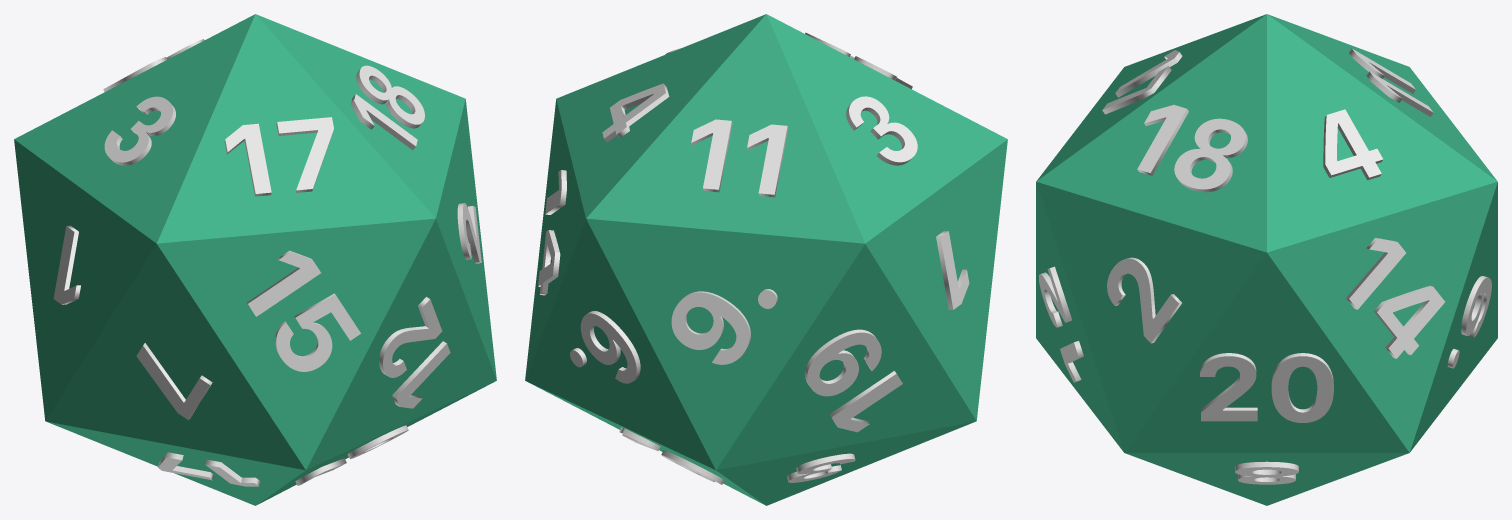
The picture shows the model from 3 angles, left to right: view 1: azimuth 30°, elevation 25°; view 2: azimuth 150°, elevation 25°; view 3: azimuth 270°, elevation 25°; orthographic projection.
Parts seen in each view (by area): view 1: Icosphere, Text.023, Text.033, Text.031, Text.013, Text.035, Text.015, Text.005, Text.025, Text.021, Text.001; view 2: Icosphere, Text.017, Text.027, Text.037, Text.019, Text.035, Text.039, Text.029, Text.025, Text.007, Text.009; view 3: Icosphere, Text.011, Text.031, Text.029, Text.021, Text.039, Text.013, Text.037, Text.033, Text.019, Text.003.
Boxes of the visible parts, box(x1,y1,x2,y2) form: Icosphere: box(14, 14, 496, 505); Text.023: box(247, 250, 360, 371); Text.033: box(224, 117, 333, 196); Text.031: box(351, 65, 424, 150); Text.013: box(379, 297, 450, 408); Text.035: box(104, 96, 175, 165); Text.015: box(136, 343, 212, 419); Text.005: box(158, 452, 260, 486); Text.025: box(53, 225, 80, 304); Text.021: box(457, 203, 481, 263); Text.001: box(295, 425, 408, 485); Icosphere: box(525, 14, 1007, 505); Text.017: box(805, 329, 902, 432); Text.027: box(671, 289, 777, 364); Text.037: box(691, 119, 788, 197); Text.019: box(570, 311, 640, 383); Text.035: box(846, 96, 917, 165); Text.039: box(602, 83, 669, 142); Text.029: box(538, 170, 566, 295); Text.025: box(936, 230, 969, 309); Text.007: box(787, 453, 855, 482); Text.009: box(619, 427, 724, 484); Icosphere: box(1036, 14, 1497, 505); Text.011: box(1200, 353, 1333, 422); Text.031: box(1137, 105, 1247, 192); Text.029: box(1346, 238, 1444, 358); Text.021: box(1107, 257, 1181, 343); Text.039: box(1323, 109, 1383, 180); Text.013: box(1039, 266, 1083, 382); Text.037: box(1348, 48, 1433, 116); Text.033: box(1102, 50, 1182, 114); Text.019: box(1447, 276, 1491, 368); Text.003: box(1235, 461, 1298, 484).
Size of the model in its own units: 1.79 by 1.7 by 2.
